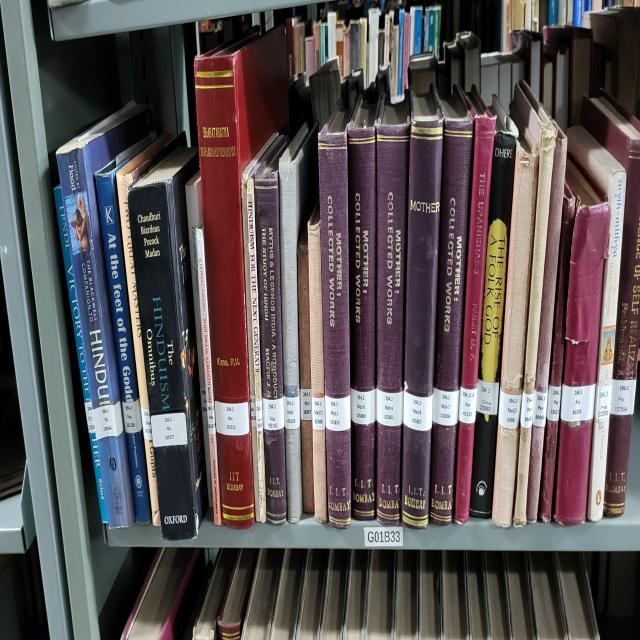Book: (194, 27, 289, 528), (56, 103, 154, 528), (128, 146, 208, 544), (581, 92, 640, 517), (569, 127, 626, 522), (116, 133, 171, 525), (95, 146, 151, 522), (554, 157, 611, 525), (470, 97, 518, 517), (430, 87, 474, 525), (401, 84, 444, 528), (514, 84, 556, 528), (54, 184, 109, 522), (454, 84, 496, 522), (241, 133, 285, 522), (526, 124, 566, 522), (279, 124, 318, 522), (376, 97, 410, 522), (348, 87, 380, 519), (319, 103, 351, 528), (255, 135, 288, 522), (500, 103, 539, 417), (196, 227, 221, 525), (308, 203, 328, 522), (549, 181, 576, 387), (298, 227, 314, 514), (492, 411, 520, 528), (378, 346, 379, 352), (570, 271, 571, 276)
Label: (560, 384, 595, 422), (151, 411, 188, 446), (215, 400, 250, 436), (404, 387, 432, 430), (94, 400, 122, 441), (376, 390, 404, 427), (432, 387, 459, 425), (610, 379, 636, 417), (325, 395, 351, 430), (350, 390, 376, 425), (499, 390, 521, 430), (476, 379, 499, 417), (459, 387, 478, 425), (262, 398, 284, 430), (122, 398, 142, 433), (532, 390, 548, 427), (546, 384, 561, 422), (284, 395, 300, 430), (596, 384, 611, 419), (311, 395, 325, 430), (520, 392, 534, 427), (300, 387, 312, 419), (85, 400, 95, 436), (141, 409, 152, 441), (255, 398, 262, 433), (250, 395, 256, 427), (508, 406, 509, 411)
